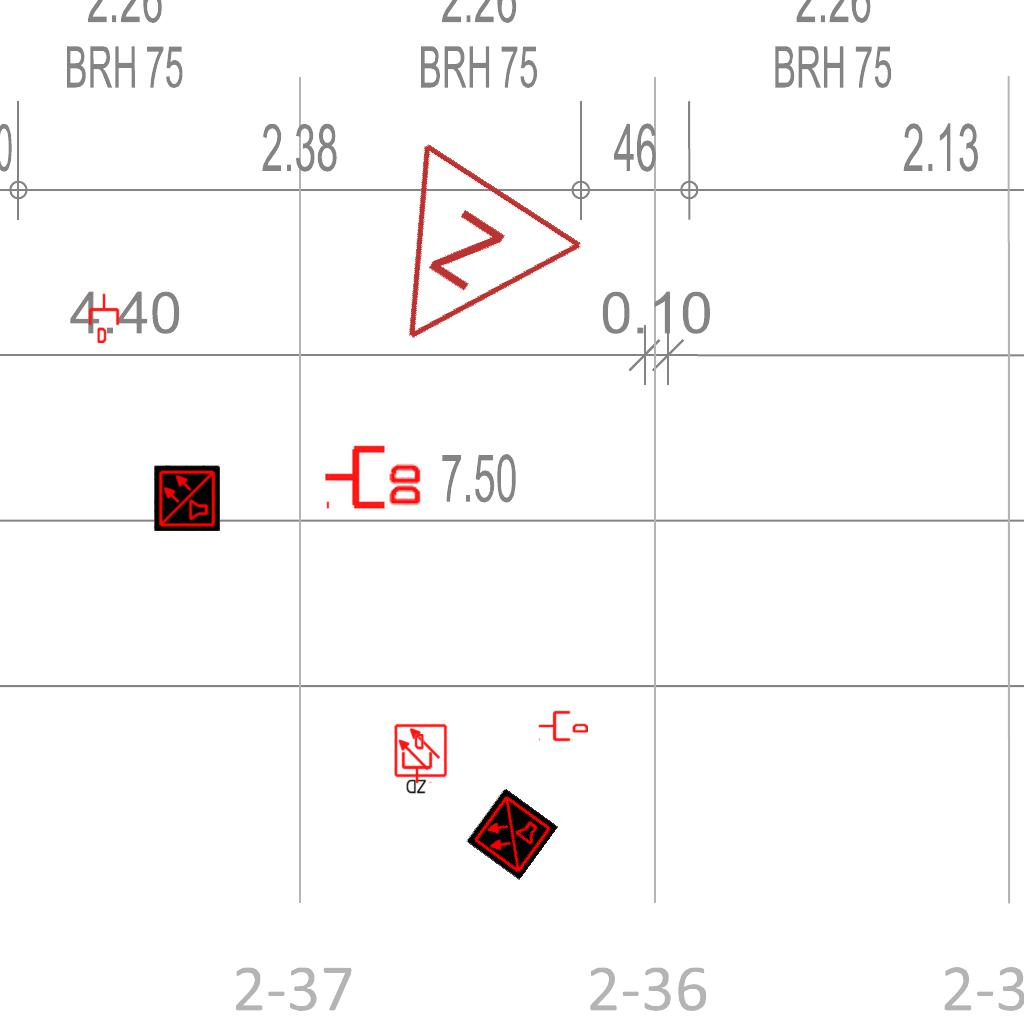Datenanschluss_einfach: (87, 293, 121, 343), (538, 709, 588, 743), (400, 734, 434, 784)
Datenanschluss_zweifach: (322, 441, 425, 510)
OKW_Multisensormelder_(Kombination_optischer_Rauch-Kahlenmonoxid_Waerme-Melder): (465, 787, 559, 881), (154, 465, 220, 531)
ZD_Melder_in_Zwischendecke_mit_Revisionsoeffnung_mind_40_x_40_cm: (393, 723, 450, 797)
Zimmersignalleuchte: (323, 128, 597, 404)
